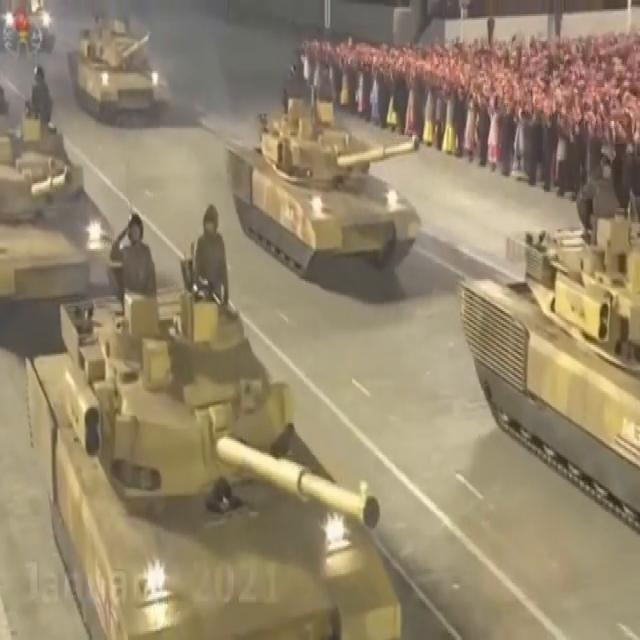north tank: (23, 293, 453, 640), (458, 163, 640, 551), (217, 60, 428, 290), (0, 92, 114, 301), (66, 0, 180, 139)
